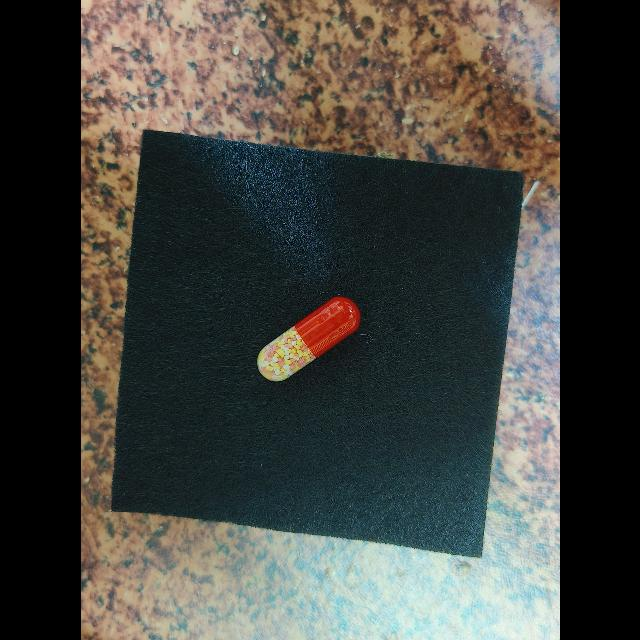Intact Capsule: (257, 296, 360, 382)
